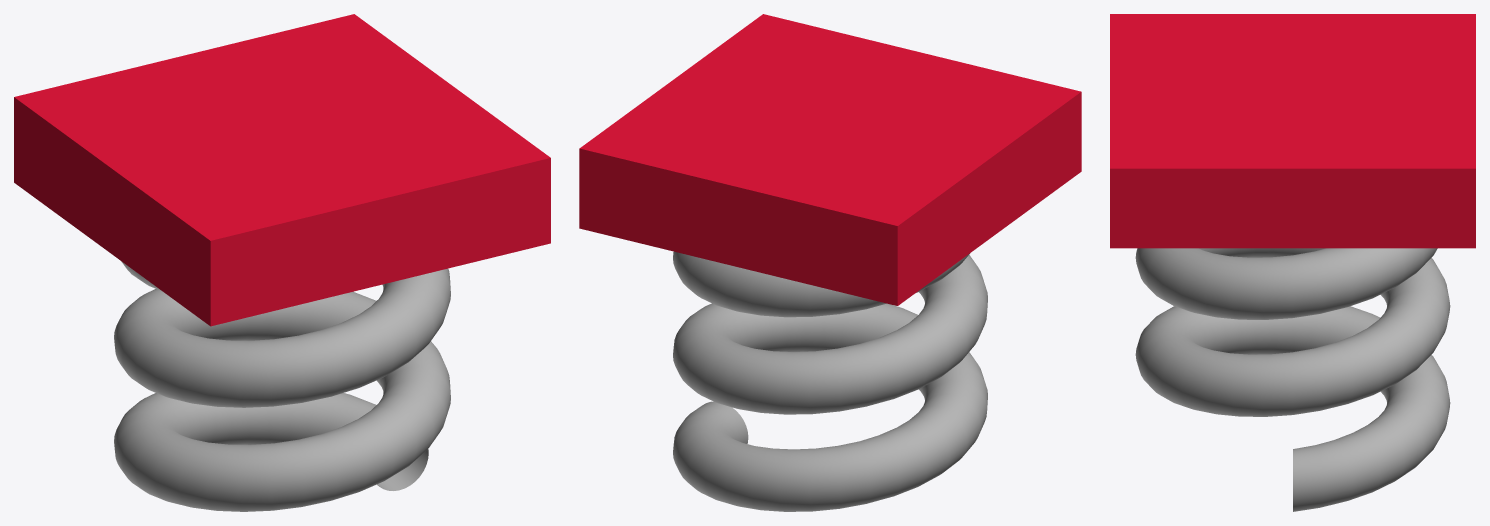
File: spring.fbx
3 renders of one model, left to right at view 1: azimuth 30°, elevation 25°; view 2: azimuth 150°, elevation 25°; view 3: azimuth 270°, elevation 25°, orthographic. The views are drawn at different scales.
Parts seen in each view (by area): view 1: Cube, Circle; view 2: Cube, Circle; view 3: Cube, Circle.
Boxes of the visible parts, x1=… form: Cube: x1=14, y1=14, x2=550, y2=326; Circle: x1=114, y1=261, x2=450, y2=511; Cube: x1=579, y1=14, x2=1081, y2=305; Circle: x1=673, y1=251, x2=987, y2=511; Cube: x1=1110, y1=14, x2=1475, y2=248; Circle: x1=1135, y1=248, x2=1450, y2=511.
Size of the model in its own units: 582 by 639 by 582.
